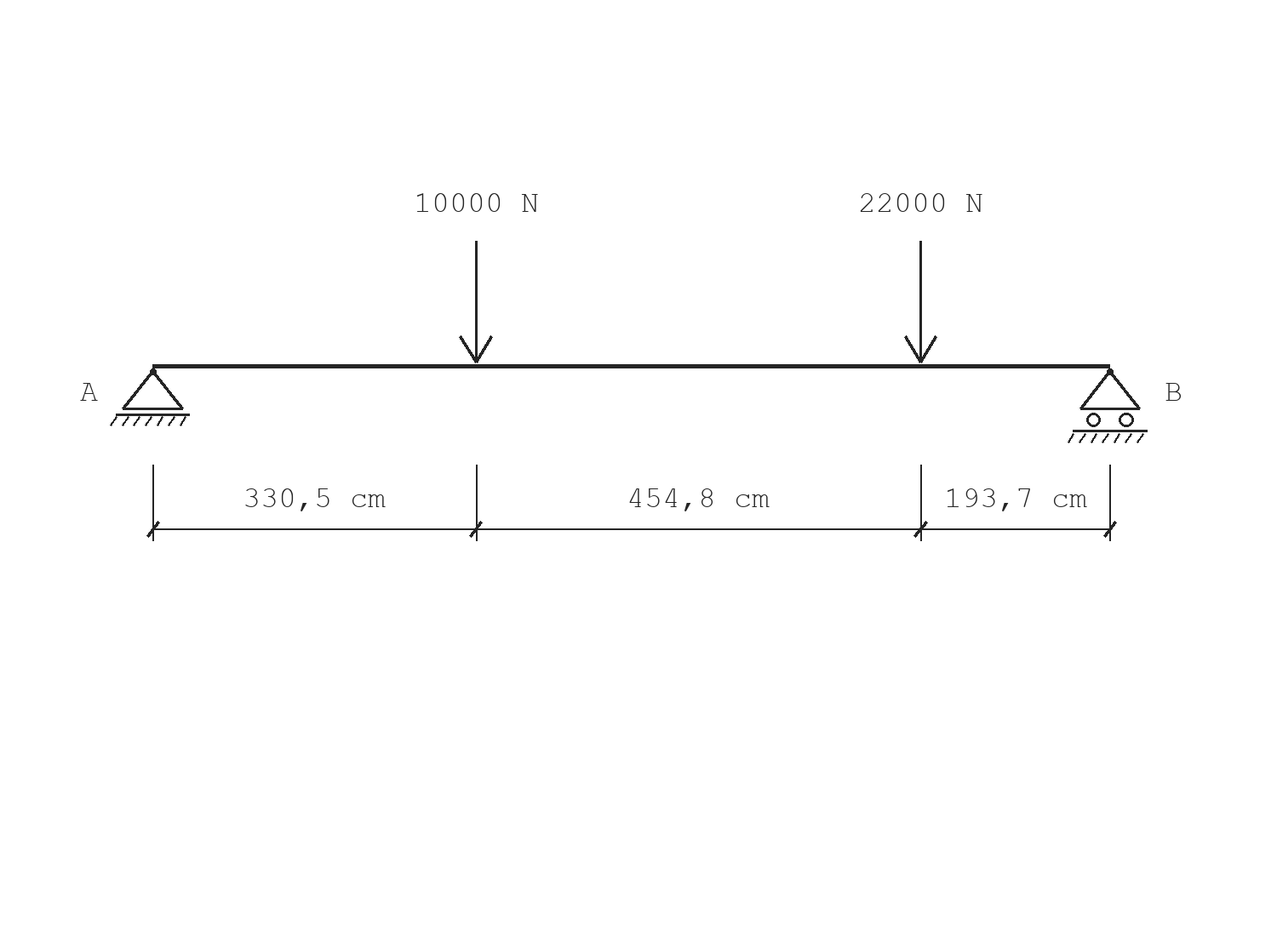pin_support: (110, 368, 190, 426)
point_load: (459, 241, 493, 363), (904, 241, 937, 363)
roller_support: (1068, 368, 1148, 443)
